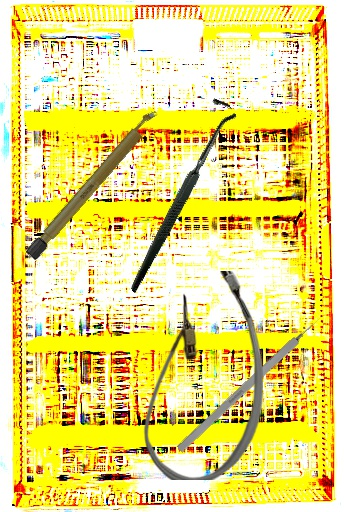Cannula: (143, 271, 263, 480)
Hook Surgical: (68, 92, 288, 295), (176, 312, 326, 453)
Scalpel Handle: (24, 105, 163, 262)
